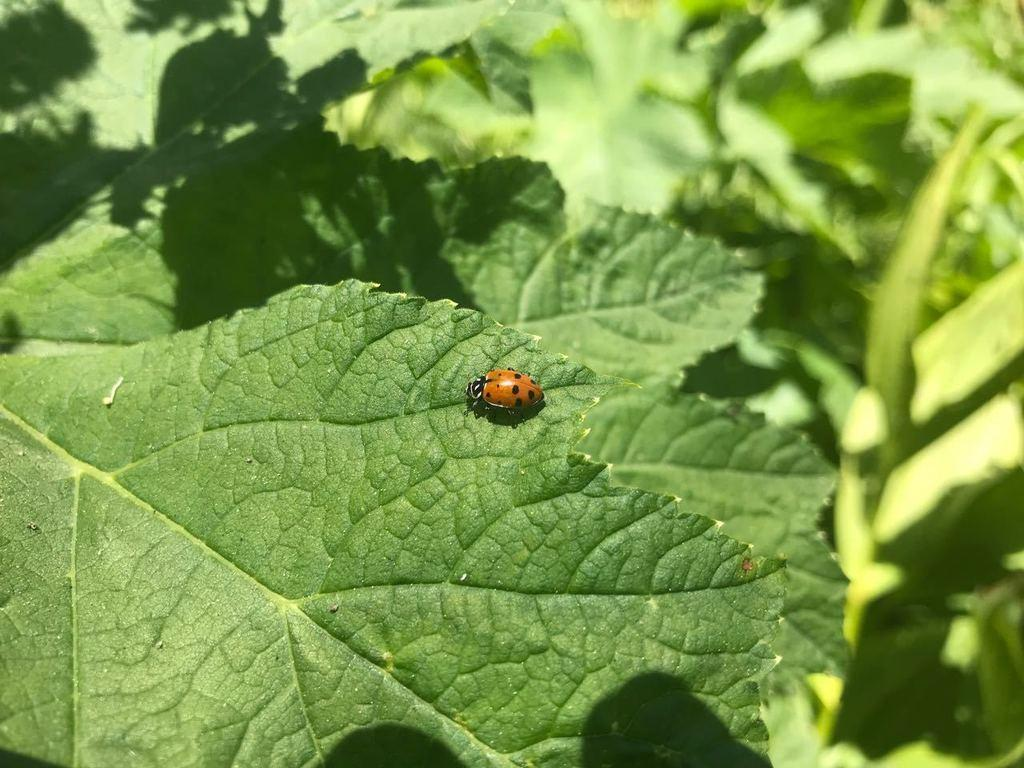ladybug: (464, 366, 547, 425)
